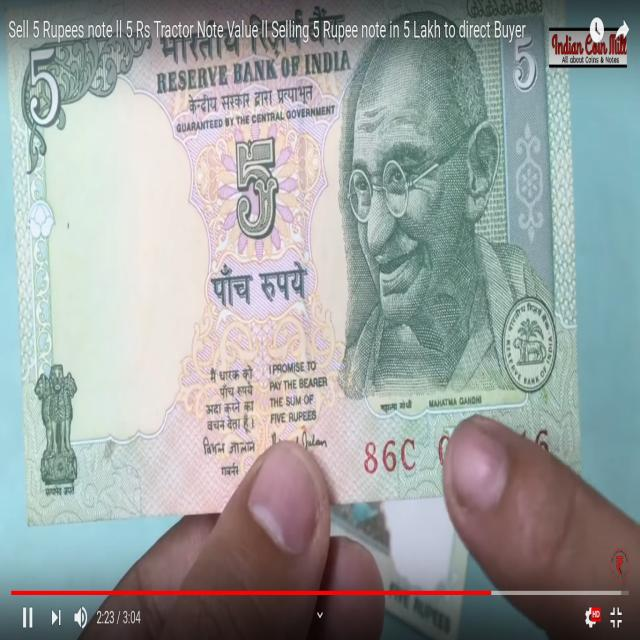5IndianRupees: (14, 42, 582, 497)
